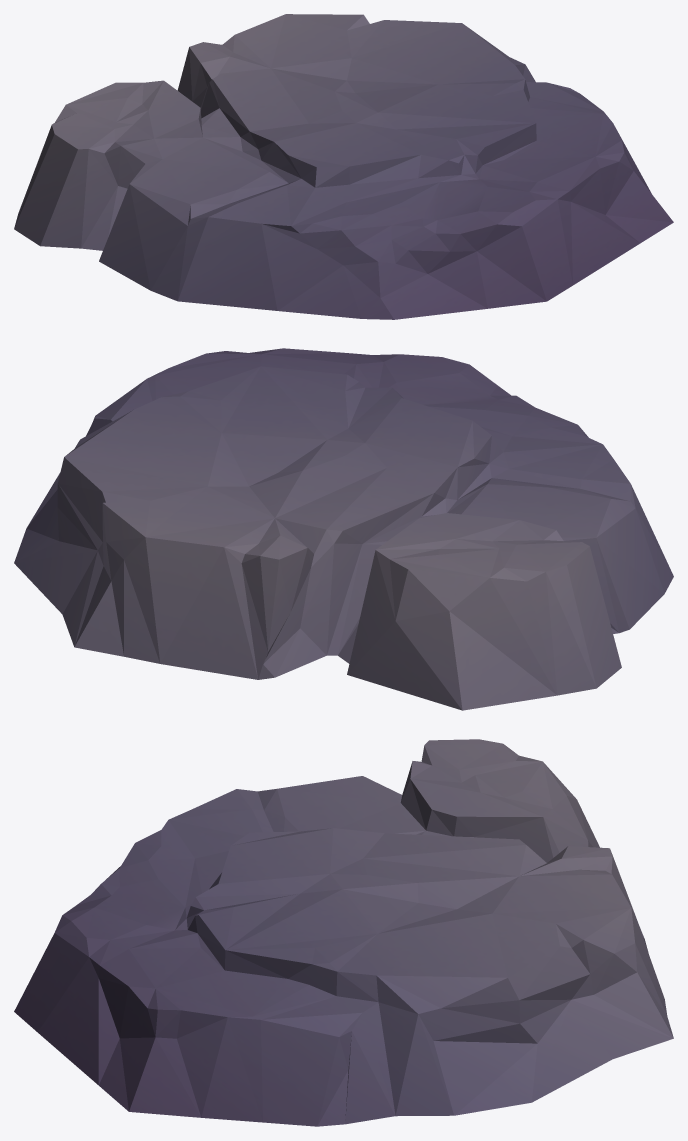
Rendered from rock_flat.003.fbx.
3 renders of one model, top to bottom at view 1: azimuth 30°, elevation 25°; view 2: azimuth 150°, elevation 25°; view 3: azimuth 270°, elevation 25°, orthographic. The views are drawn at different scales.
Parts seen in each view (by area): view 1: rock_flat.003; view 2: rock_flat.003; view 3: rock_flat.003.
Boxes of the visible parts, left/top/right/bottom form: rock_flat.003: left=14, top=14, right=673, bottom=319; rock_flat.003: left=14, top=348, right=673, bottom=710; rock_flat.003: left=14, top=739, right=673, bottom=1126.
Bounding box in the file's own units: 315 × 53.37 × 294.
